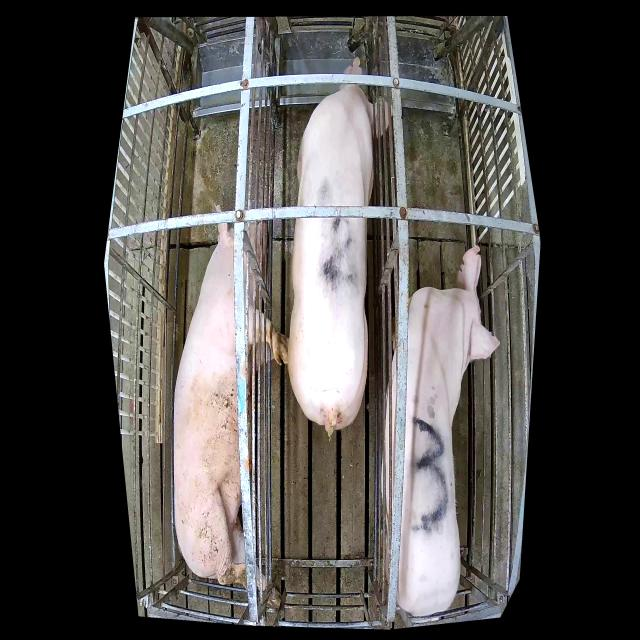pig: (174, 204, 288, 606), (380, 246, 500, 616), (288, 56, 393, 436)
